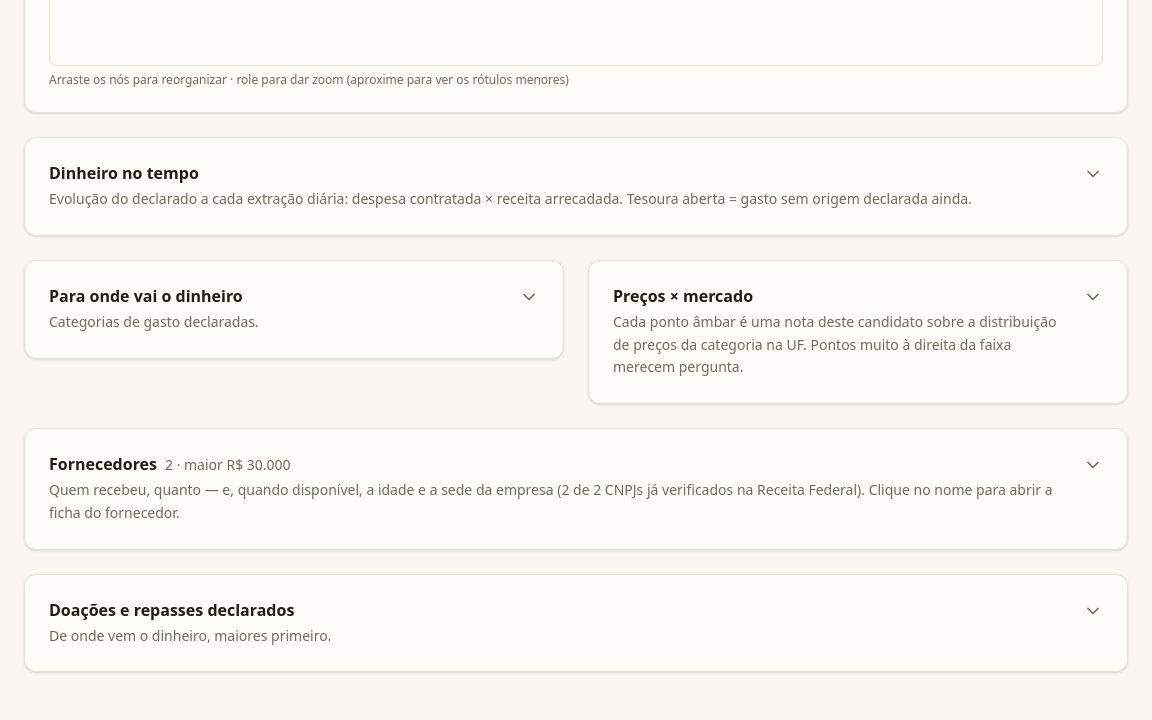
Test: ficha do candidato · tabela de fornecedores › CNPJ com lápide de 404 explica a coluna vazia da abertura
(page scrolled)
Click the heading "Fornecedores": (576, 487) [49,453,1103,522]
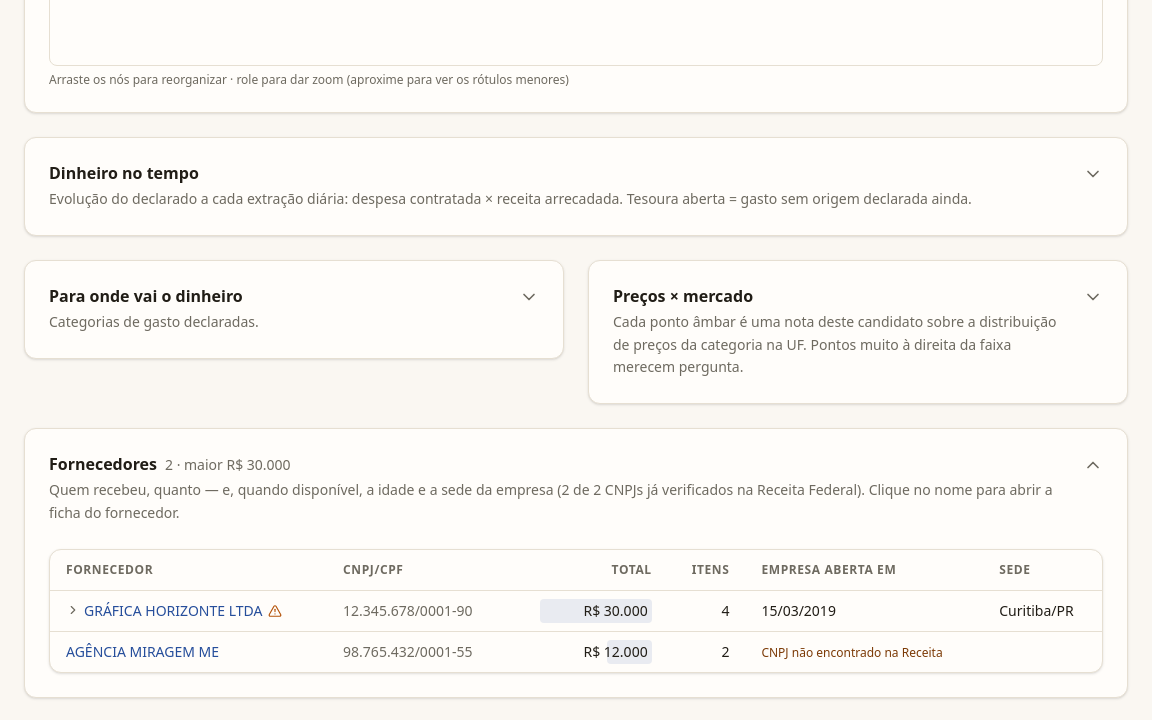
Check: the text "CNPJ não encontrado na Receita" is shown, box [761,644,943,660]
